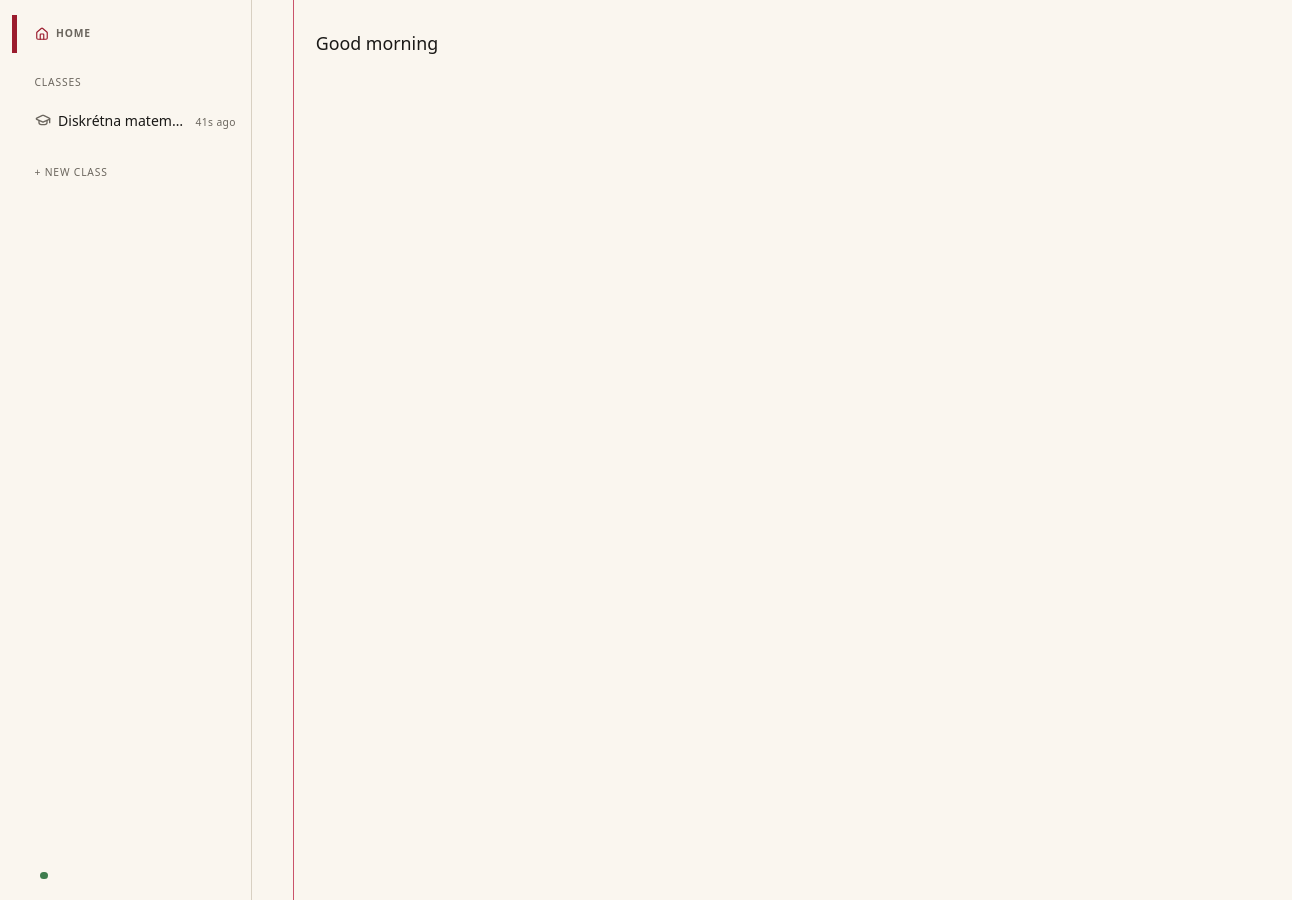
Test case: App two panes › opens the editor on a card and returns to the class page on Escape
The image size is (1292, 900).
Click the button "Diskrétna matematika 41s ago" at (132, 120), box [12, 98, 251, 142]
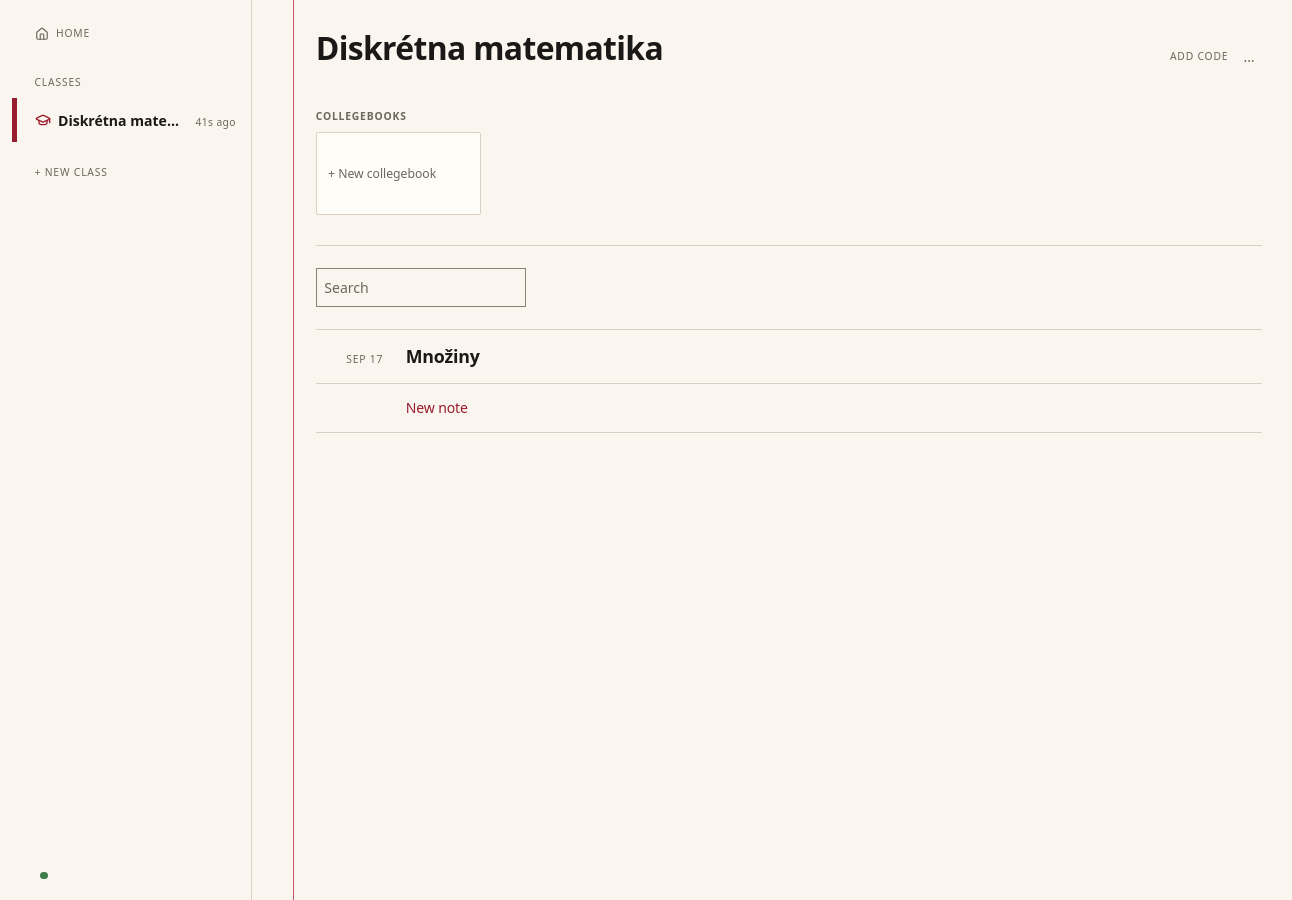
Result: the heading "Diskrétna matematika" is shown at [316, 30, 663, 65]
Click the button "Množiny Sep 17" at (443, 356), box [316, 330, 1262, 383]
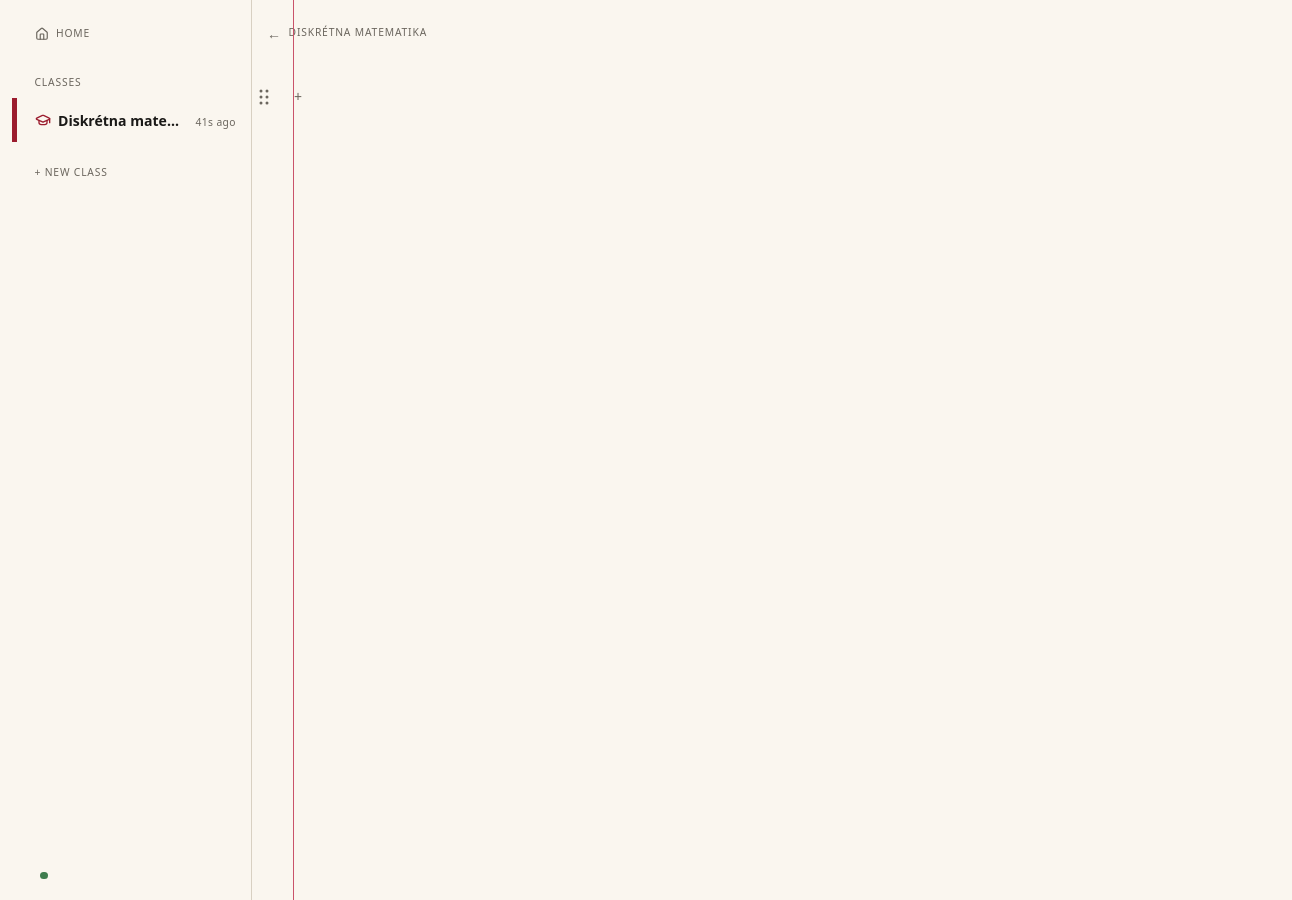
Result: the field with class "tiptap" is shown at [252, 66, 873, 164]
Result: the search field labelled "Notes" is gone
Result: the button with aria-label "Back to Diskrétna matematika" is shown at [260, 15, 434, 51]
Press Escape
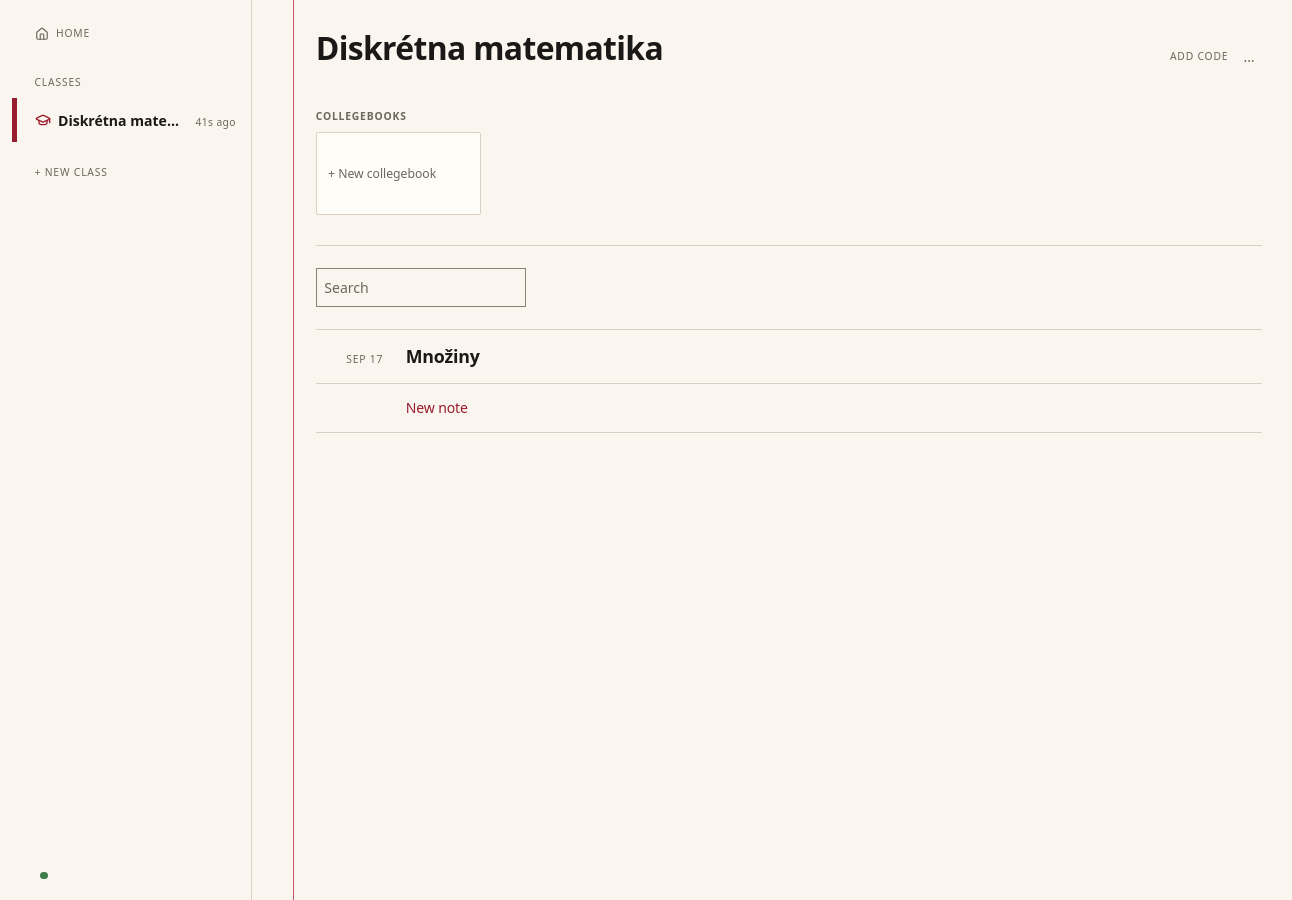
Result: the heading "Diskrétna matematika" is shown at [316, 30, 663, 65]
Result: the field with class "note" is gone
